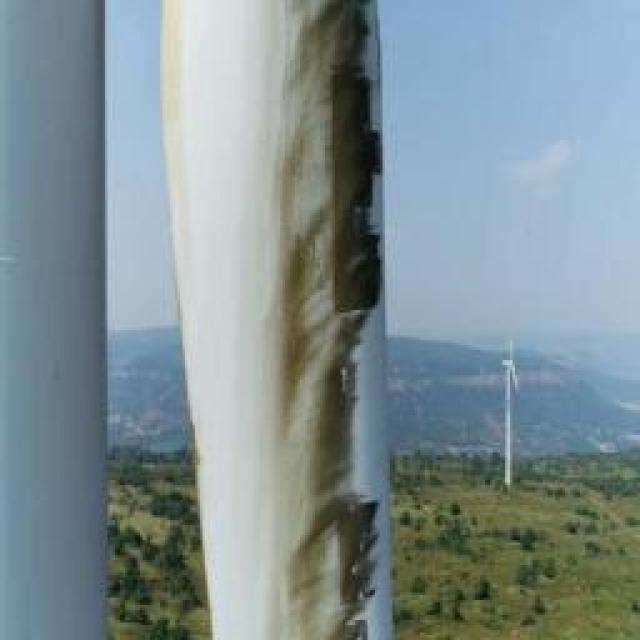Dirt: (267, 0, 400, 639)
